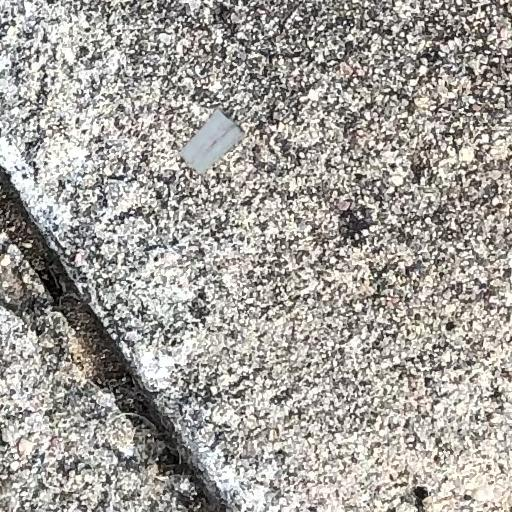smoke: (180, 109, 243, 174)
